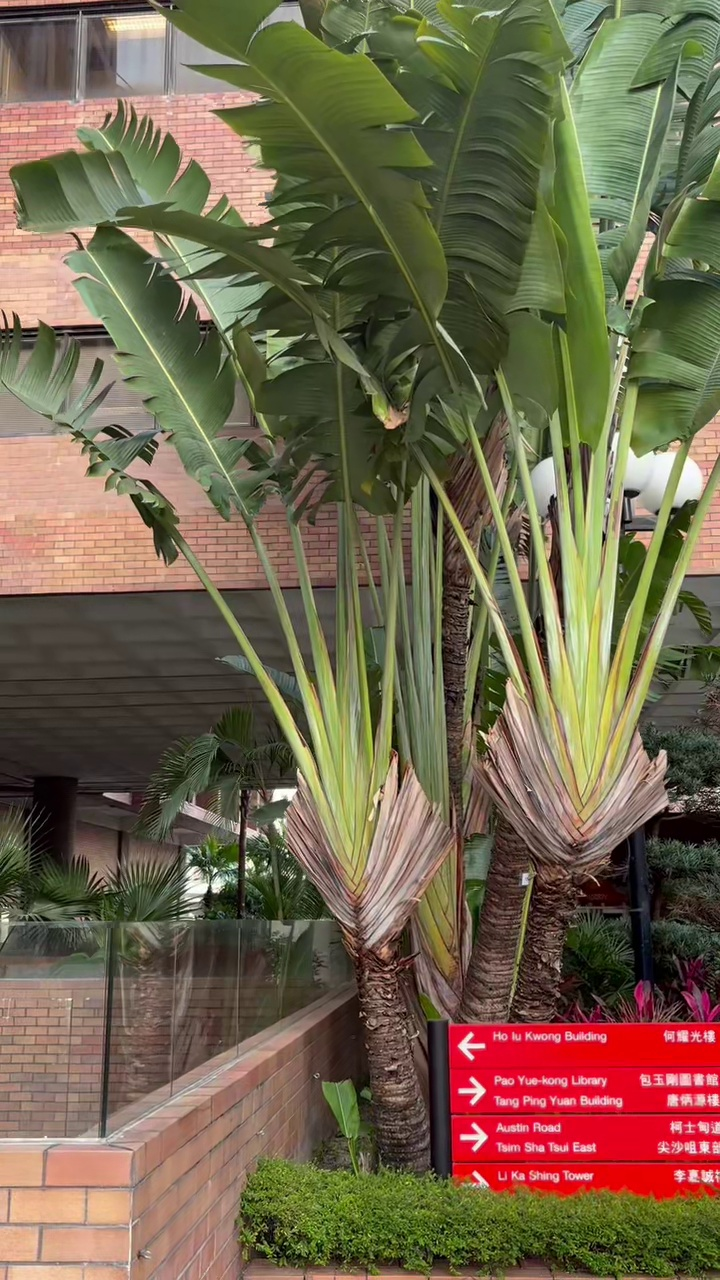Travellers-tree: (3, 0, 719, 1167)
